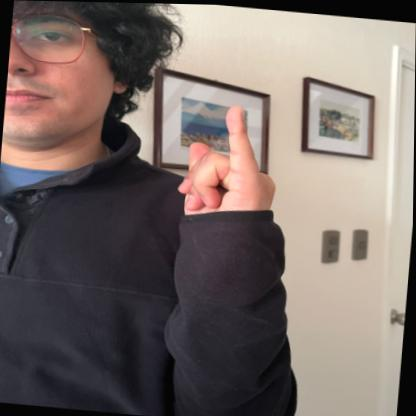I: (168, 94, 293, 255)
